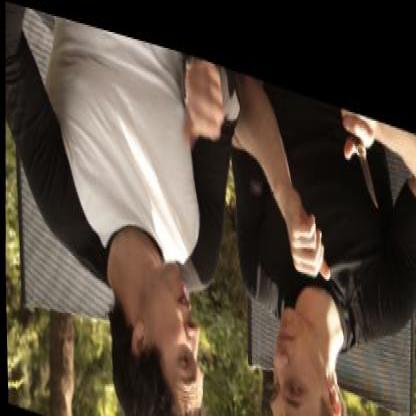knife: (336, 86, 384, 202)
